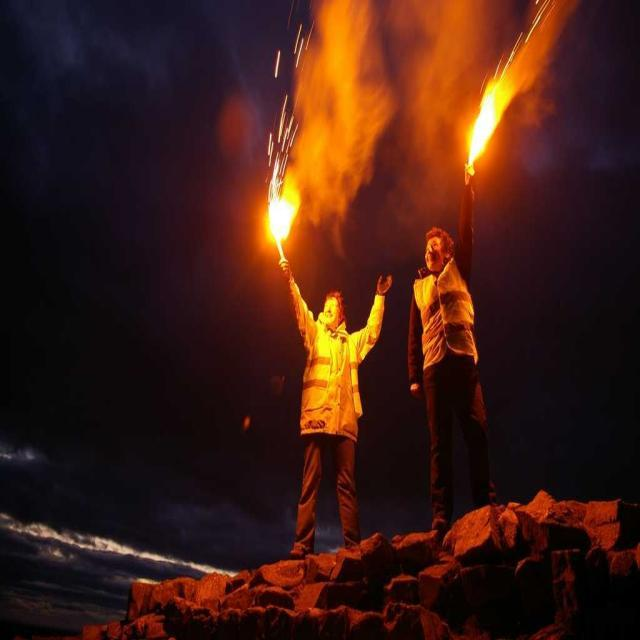Fire: (264, 196, 298, 240), (475, 100, 502, 149)
